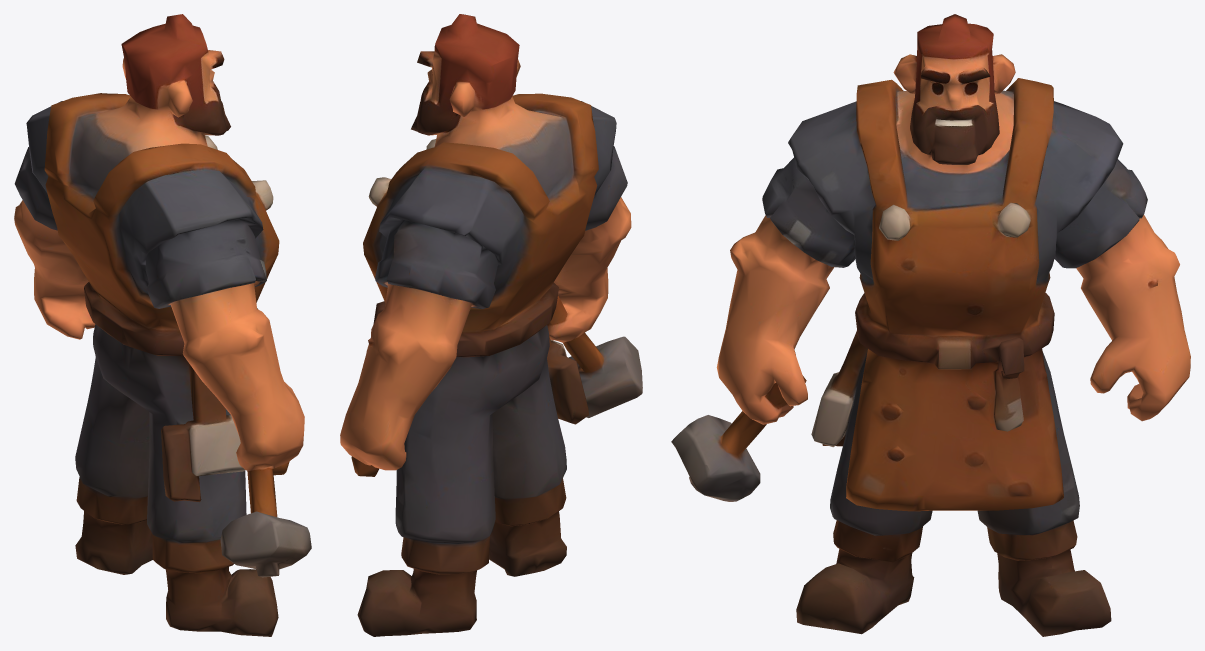
Rendered from villager_blacksmith.glb.
The picture shows the model from 3 angles, left to right: view 1: azimuth 30°, elevation 25°; view 2: azimuth 150°, elevation 25°; view 3: azimuth 270°, elevation 25°; orthographic projection. The views are drawn at different scales.
Parts seen in each view (by area): view 1: tripo_node_c586de55-e898-4065-8d9b-a29d72cdd3ec; view 2: tripo_node_c586de55-e898-4065-8d9b-a29d72cdd3ec; view 3: tripo_node_c586de55-e898-4065-8d9b-a29d72cdd3ec.
Part boxes in pixels (x1,y1,x2,y2): tripo_node_c586de55-e898-4065-8d9b-a29d72cdd3ec: [14, 14, 311, 636]; tripo_node_c586de55-e898-4065-8d9b-a29d72cdd3ec: [340, 14, 642, 636]; tripo_node_c586de55-e898-4065-8d9b-a29d72cdd3ec: [671, 14, 1190, 636].
Bounding box in the file's own units: 0.3274 × 1 × 0.7877.
Materials: 1 (1 with a texture image).
